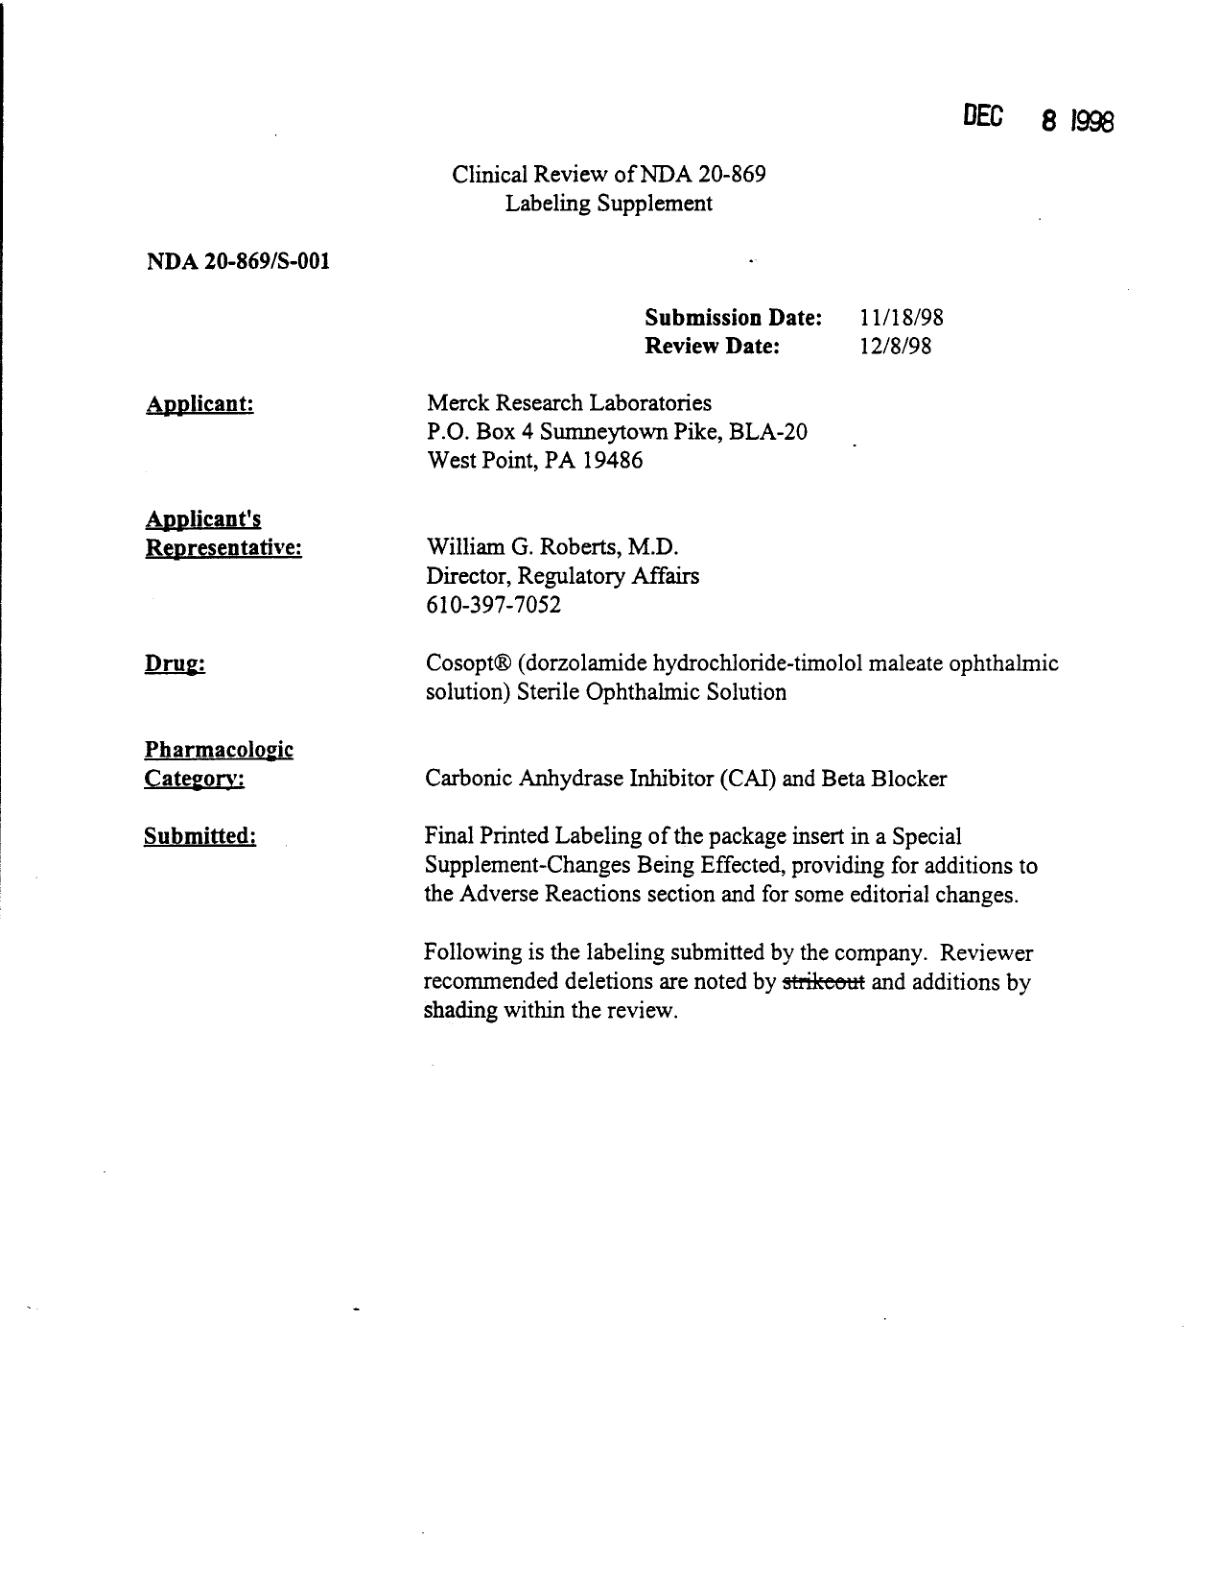nolines: (142, 246, 1063, 1020)
